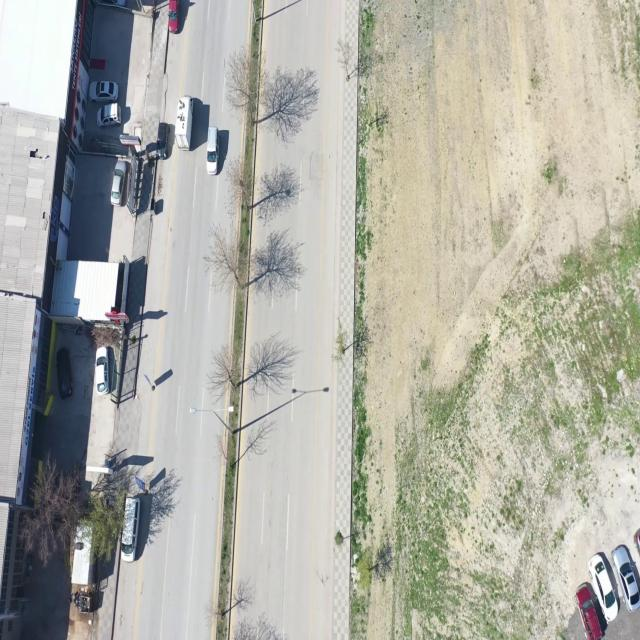p3rson: (145, 150, 149, 159)
